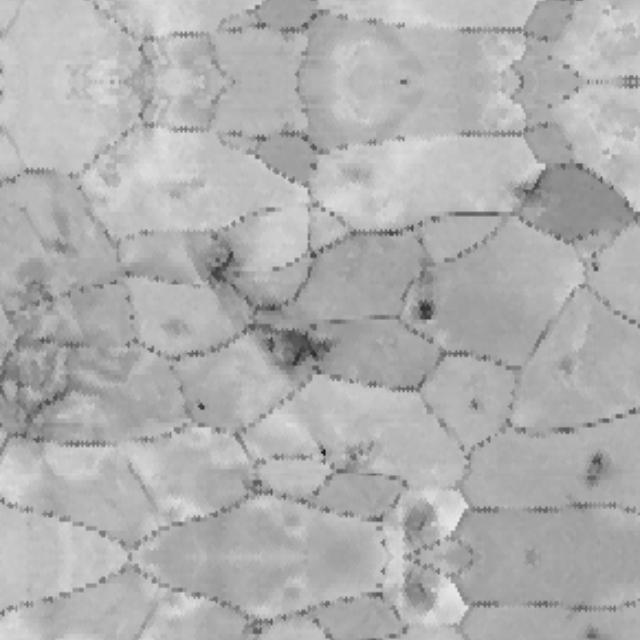good_void: (1, 276, 116, 443), (205, 250, 337, 379), (394, 495, 451, 550), (394, 566, 451, 621), (42, 210, 86, 263), (338, 431, 382, 471), (512, 182, 544, 208), (590, 458, 609, 485), (247, 474, 271, 495), (419, 302, 438, 326), (247, 621, 271, 640), (461, 395, 482, 416), (196, 398, 218, 418), (586, 259, 605, 279), (313, 445, 329, 462), (590, 631, 601, 640)
